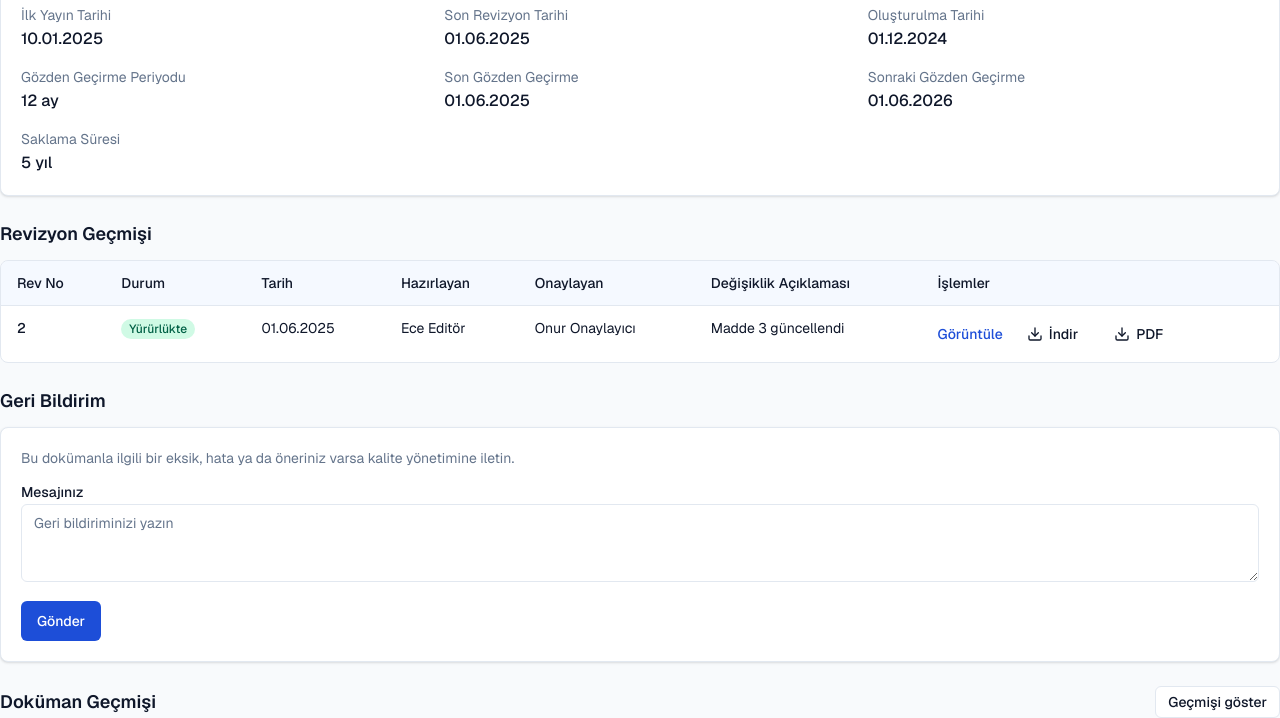
Test: DocumentDetail audit history › shows the history of this document once it is opened
(page scrolled)
Click the button "Geçmişi göster" at (1218, 702), box [1155, 686, 1279, 717]
(page scrolled)
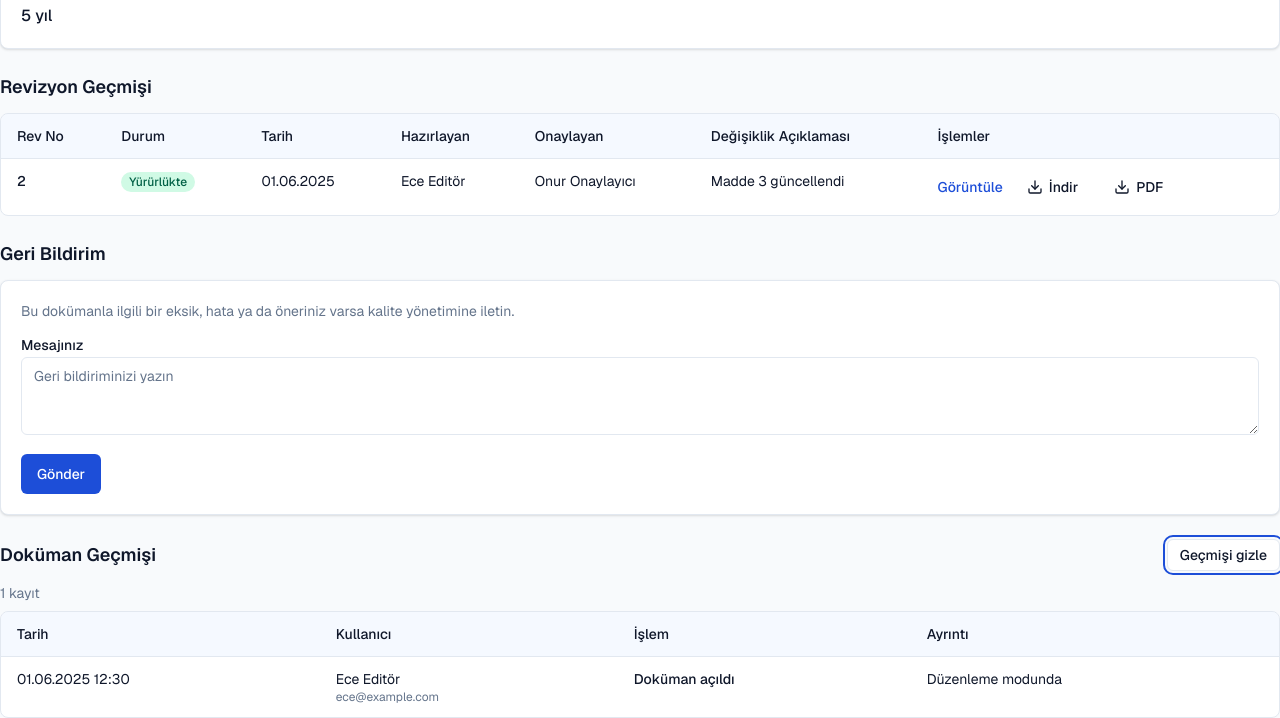
Result: the table named "Denetim kayıtları" is shown at [1, 612, 1279, 717]
